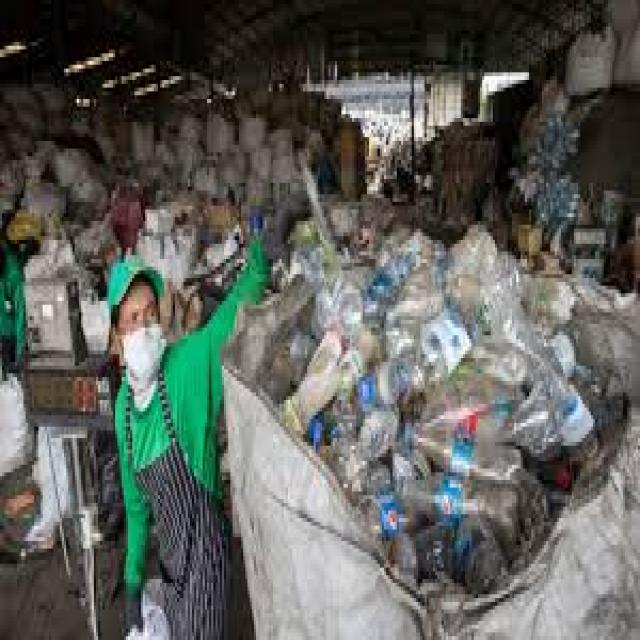heap: (314, 211, 587, 596)
